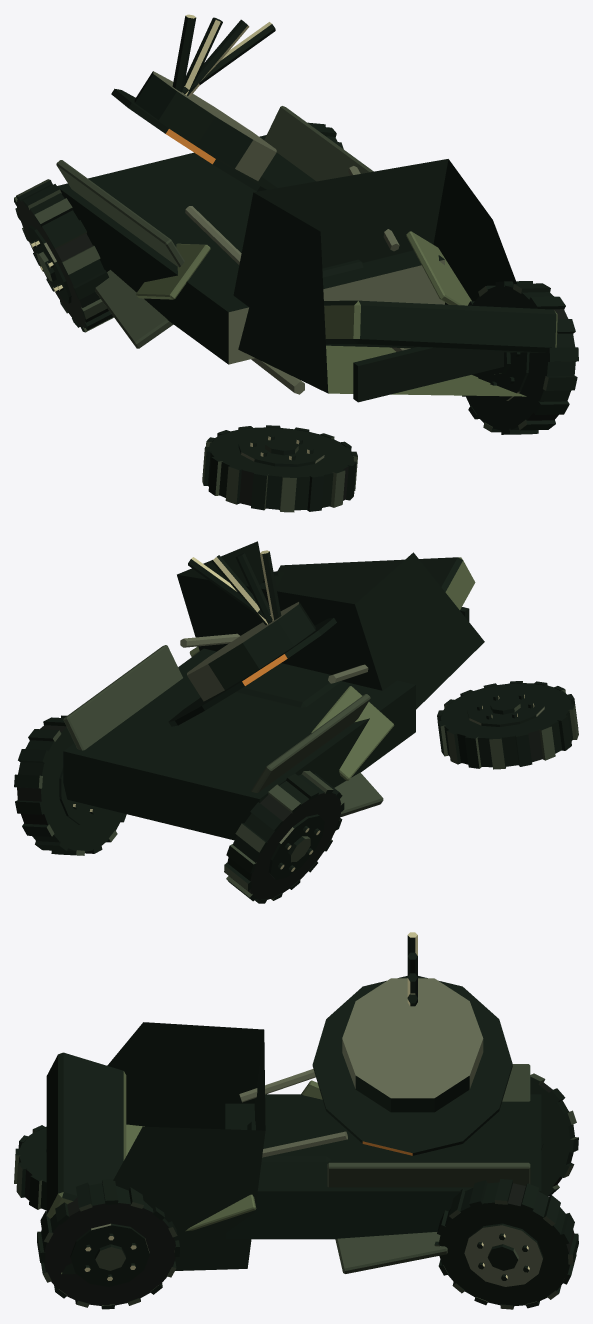
File: wreck_jammerTruck.obj
The picture shows the model from 3 angles, top to bottom: view 1: azimuth 30°, elevation 25°; view 2: azimuth 150°, elevation 25°; view 3: azimuth 270°, elevation 25°; orthographic projection. The views are drawn at different scales.
Parts seen in each view (by area): view 1: Body.011; view 2: Body.011; view 3: Body.011.
Part boxes in pixels (left/top/right/bottom): Body.011: left=14, top=14, right=578, bottom=512; Body.011: left=14, top=541, right=578, bottom=903; Body.011: left=14, top=932, right=578, bottom=1309.
Size of the model in its own units: 4.37 by 3.92 by 6.61.
Materials: 1 (1 with a texture image).
